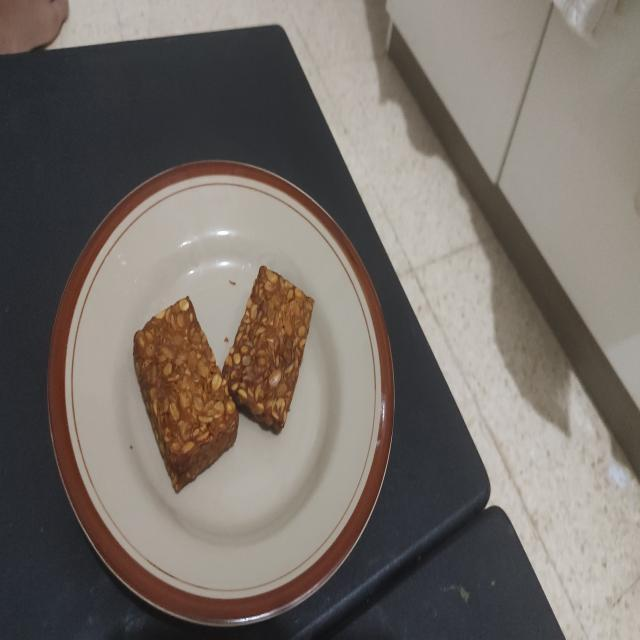tempe_goreng: (134, 296, 238, 492), (222, 266, 314, 433)
